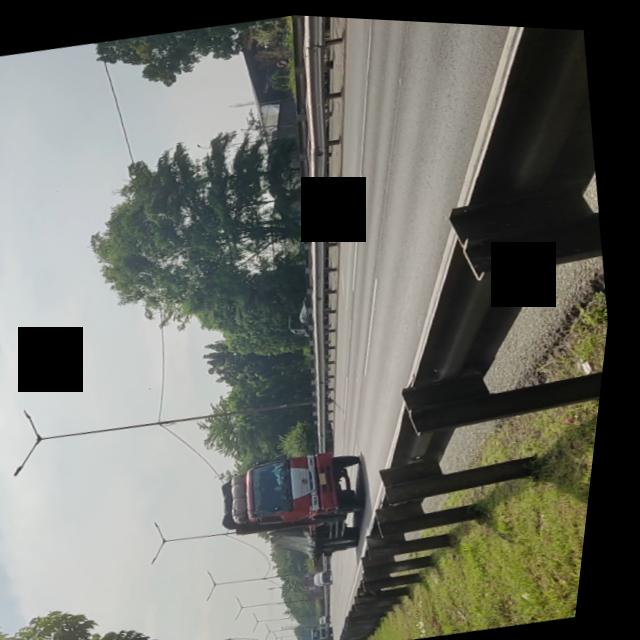Golongan III: (222, 435, 388, 573)
